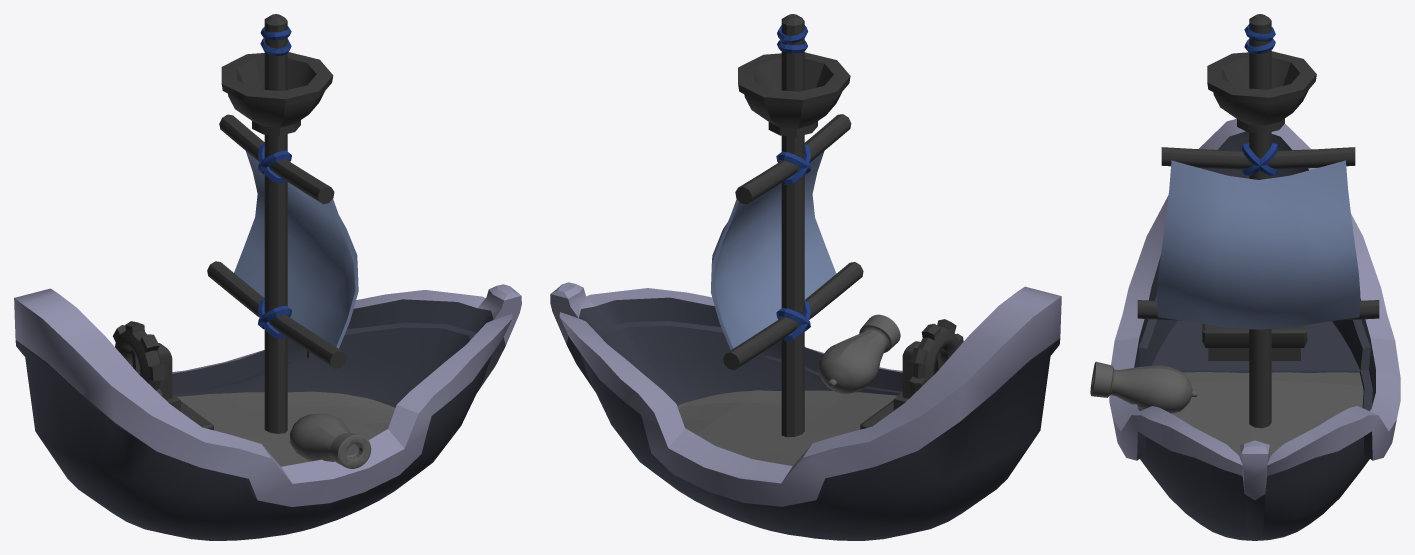
The model's file is Nave  nemica.fbx.
3 renders of one model, left to right at view 1: azimuth 30°, elevation 25°; view 2: azimuth 150°, elevation 25°; view 3: azimuth 270°, elevation 25°, orthographic. The views are drawn at different scales.
Visible parts, largest first — view 1: nave nemica; view 2: nave nemica; view 3: nave nemica.
Part boxes in pixels (<box>): nave nemica: <box>14,14,521,540</box>; nave nemica: <box>550,14,1061,540</box>; nave nemica: <box>1090,14,1400,540</box>.
Bounding box in the file's own units: 1323 × 1275 × 734.
